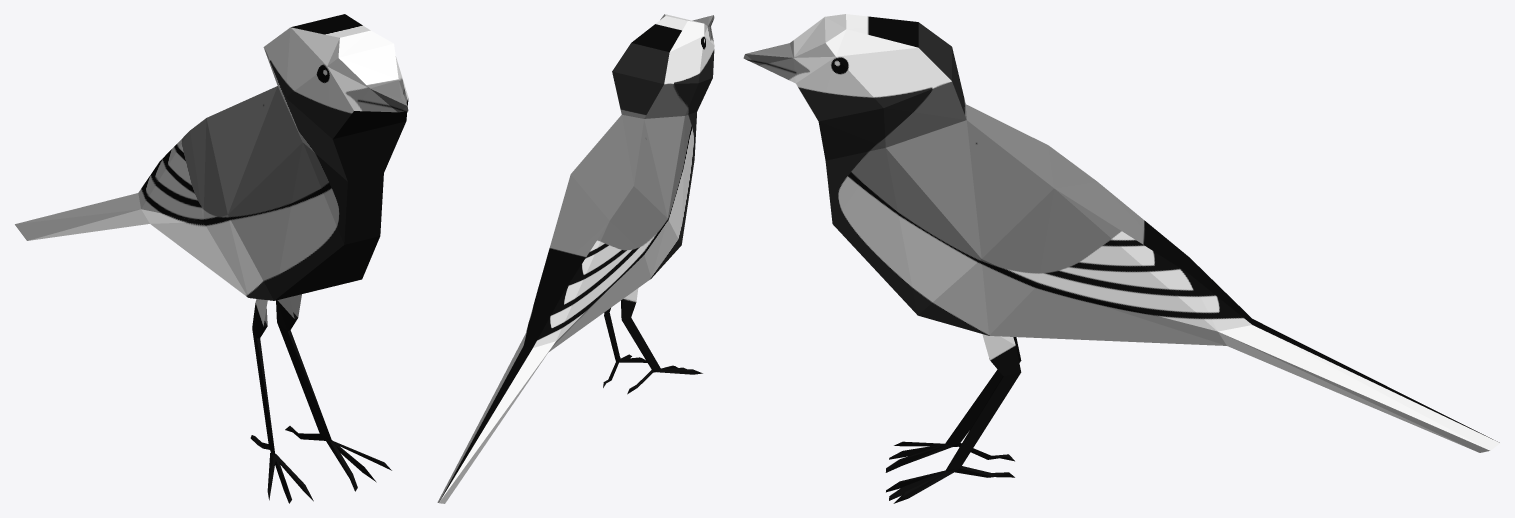
Rendered from baltoji_kiele.glb.
The picture shows the model from 3 angles, left to right: view 1: azimuth 30°, elevation 25°; view 2: azimuth 150°, elevation 25°; view 3: azimuth 270°, elevation 25°; orthographic projection. The views are drawn at different scales.
Parts seen in each view (by area): view 1: Plane.002; view 2: Plane.002; view 3: Plane.002.
Boxes of the visible parts, bbox=[...] form: Plane.002: bbox=[15, 14, 408, 503]; Plane.002: bbox=[437, 14, 714, 503]; Plane.002: bbox=[743, 14, 1500, 503].
Bounding box in the file's own units: 0.7193 × 2.67 × 3.96.
1 material, 1 textured.
